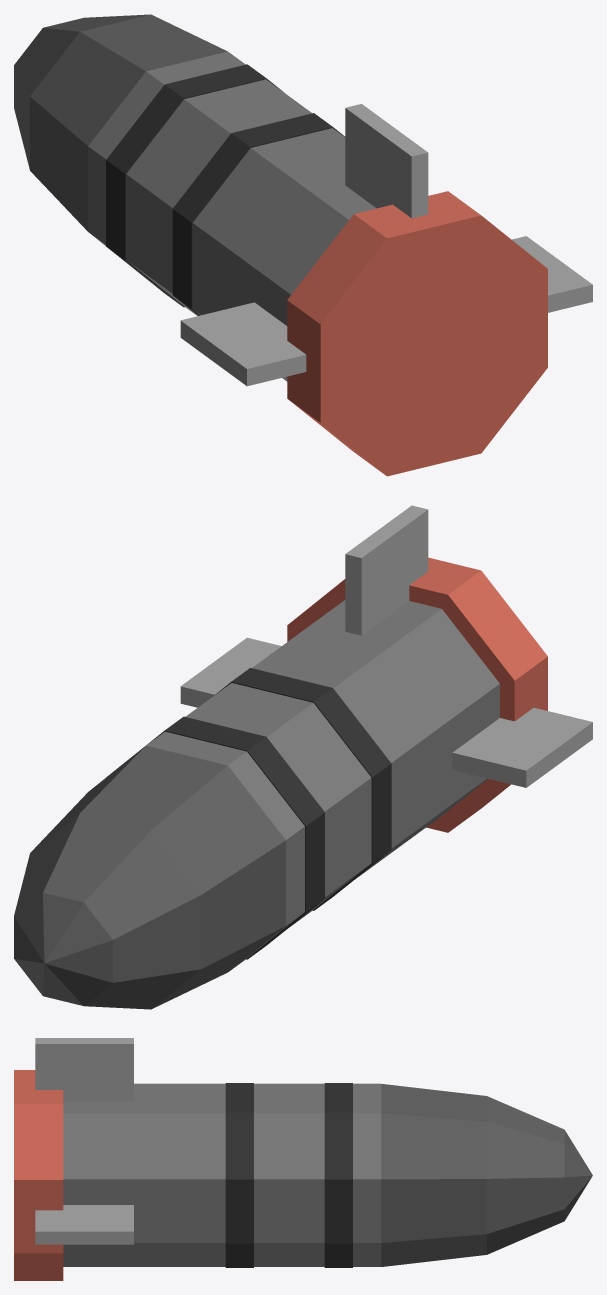
File: ce_ammo2_minirocket_hec_a.obj
3 renders of one model, top to bottom at view 1: azimuth 30°, elevation 25°; view 2: azimuth 150°, elevation 25°; view 3: azimuth 270°, elevation 25°, orthographic. The views are drawn at different scales.
Visible parts, largest first — view 1: ce_ammo2_minirocket_hec_a_0, ce_ammo2_minirocket_hec_a_1, ce_ammo2_minirocket_hec_a_6, ce_ammo2_minirocket_hec_a_3, ce_ammo2_minirocket_hec_a_9, ce_ammo2_minirocket_hec_a_10, ce_ammo2_minirocket_hec_a_4, ce_ammo2_minirocket_hec_a_2, ce_ammo2_minirocket_hec_a_5, ce_ammo2_minirocket_hec_a_7; view 2: ce_ammo2_minirocket_hec_a_1, ce_ammo2_minirocket_hec_a_6, ce_ammo2_minirocket_hec_a_7, ce_ammo2_minirocket_hec_a_3, ce_ammo2_minirocket_hec_a_0, ce_ammo2_minirocket_hec_a_9, ce_ammo2_minirocket_hec_a_8, ce_ammo2_minirocket_hec_a_10, ce_ammo2_minirocket_hec_a_2, ce_ammo2_minirocket_hec_a_4, ce_ammo2_minirocket_hec_a_5; view 3: ce_ammo2_minirocket_hec_a_1, ce_ammo2_minirocket_hec_a_6, ce_ammo2_minirocket_hec_a_3, ce_ammo2_minirocket_hec_a_7, ce_ammo2_minirocket_hec_a_0, ce_ammo2_minirocket_hec_a_10, ce_ammo2_minirocket_hec_a_2, ce_ammo2_minirocket_hec_a_4, ce_ammo2_minirocket_hec_a_5, ce_ammo2_minirocket_hec_a_9, ce_ammo2_minirocket_hec_a_8.
Boxes of the visible parts, x1,y1,x2,y2 form: ce_ammo2_minirocket_hec_a_0: (287,191,547,476); ce_ammo2_minirocket_hec_a_1: (192,128,376,381); ce_ammo2_minirocket_hec_a_6: (30,14,227,231); ce_ammo2_minirocket_hec_a_3: (126,79,311,315); ce_ammo2_minirocket_hec_a_9: (180,236,592,386); ce_ammo2_minirocket_hec_a_10: (345,104,428,218); ce_ammo2_minirocket_hec_a_4: (106,64,284,307); ce_ammo2_minirocket_hec_a_2: (172,113,344,315); ce_ammo2_minirocket_hec_a_5: (88,51,245,245); ce_ammo2_minirocket_hec_a_7: (14,14,149,169); ce_ammo2_minirocket_hec_a_1: (252,600,499,878); ce_ammo2_minirocket_hec_a_6: (30,745,285,1008); ce_ammo2_minirocket_hec_a_7: (14,813,201,1009); ce_ammo2_minirocket_hec_a_3: (185,683,371,926); ce_ammo2_minirocket_hec_a_0: (287,557,547,832); ce_ammo2_minirocket_hec_a_9: (180,637,592,787); ce_ammo2_minirocket_hec_a_8: (14,892,112,1005); ce_ammo2_minirocket_hec_a_10: (345,505,428,635); ce_ammo2_minirocket_hec_a_2: (214,668,391,910); ce_ammo2_minirocket_hec_a_4: (107,716,324,959); ce_ammo2_minirocket_hec_a_5: (146,731,304,969); ce_ammo2_minirocket_hec_a_1: (63,1083,225,1266); ce_ammo2_minirocket_hec_a_6: (381,1084,486,1266); ce_ammo2_minirocket_hec_a_3: (254,1083,324,1266); ce_ammo2_minirocket_hec_a_7: (487,1096,564,1254); ce_ammo2_minirocket_hec_a_0: (14,1070,63,1280); ce_ammo2_minirocket_hec_a_10: (35,1038,133,1101); ce_ammo2_minirocket_hec_a_2: (225,1083,253,1267); ce_ammo2_minirocket_hec_a_4: (324,1083,352,1267); ce_ammo2_minirocket_hec_a_5: (353,1083,381,1266); ce_ammo2_minirocket_hec_a_9: (35,1205,133,1244); ce_ammo2_minirocket_hec_a_8: (564,1130,592,1220).
Bounding box in the file's own units: 0.42 × 0.3481 × 0.82.
